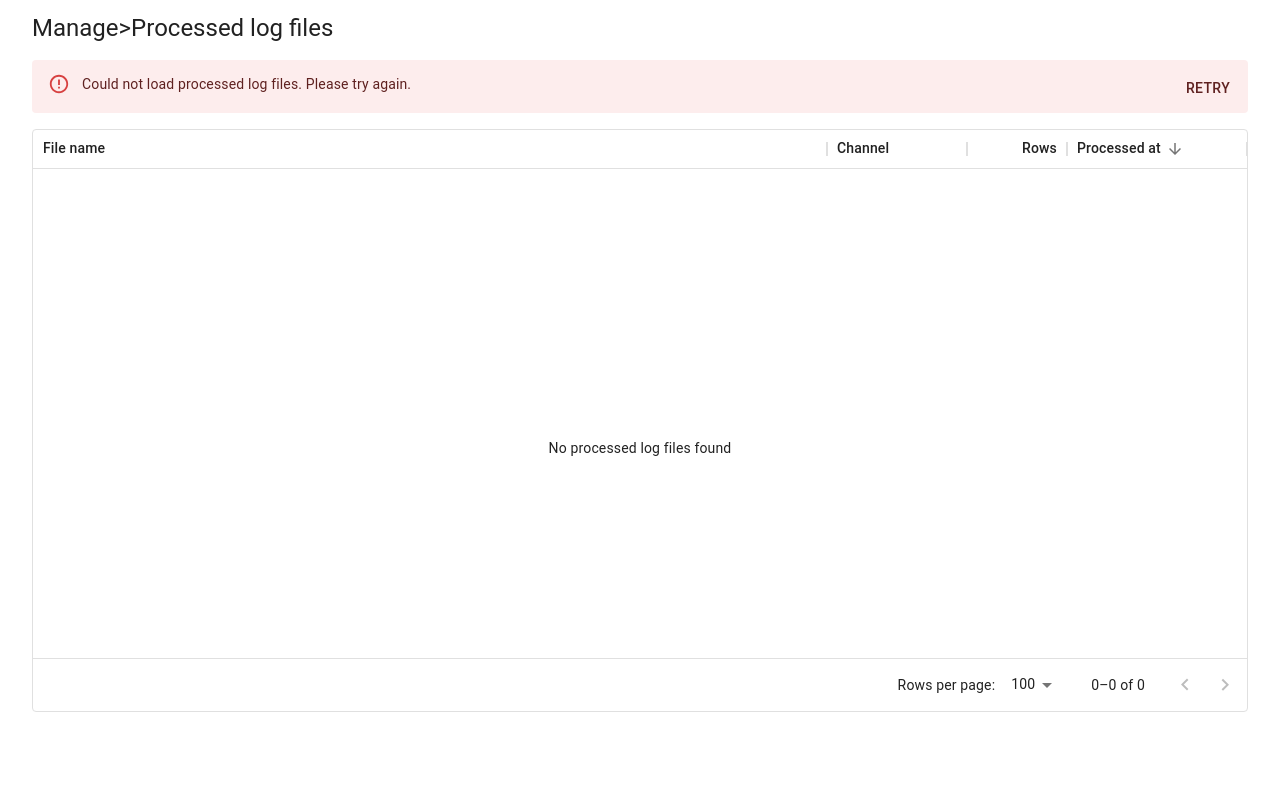
failed requests offer a retry
Click the button "Retry": (1208, 88) [1176,70,1240,106]
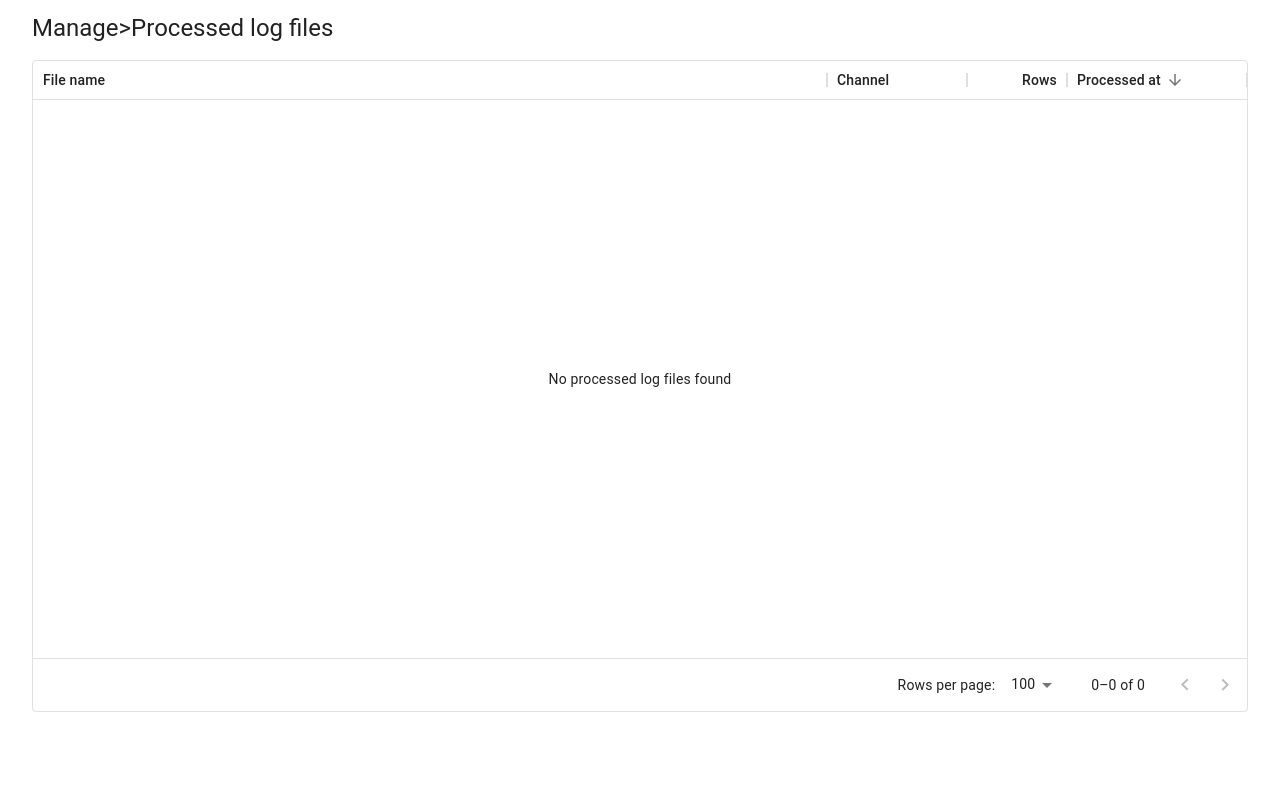
Expected: the message "Could not load processed log files. Please try again. Retry" is gone
